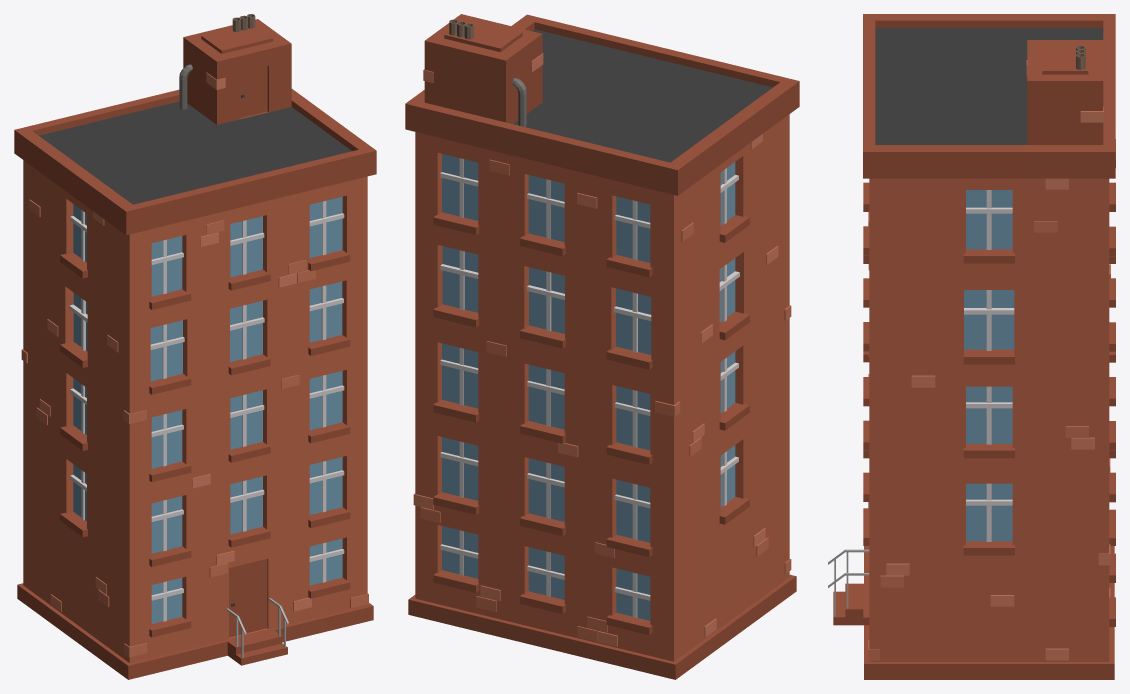
Rendered from House_06.fbx.
3 views of the same model, side by side, from view 1: azimuth 30°, elevation 25°; view 2: azimuth 150°, elevation 25°; view 3: azimuth 270°, elevation 25° (orthographic). The views are drawn at different scales.
Visible parts, largest first — view 1: House_06; view 2: House_06; view 3: House_06.
Part boxes in pixels (x1,y1,x2,y2): House_06: (14, 14, 376, 679); House_06: (405, 14, 799, 679); House_06: (828, 14, 1115, 679).
Size of the model in its own units: 14.28 by 29.46 by 12.59.
